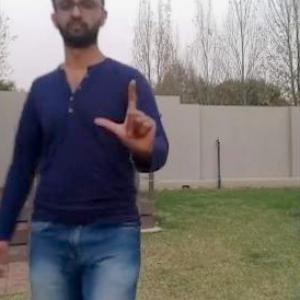land_hand: (89, 70, 163, 161)
